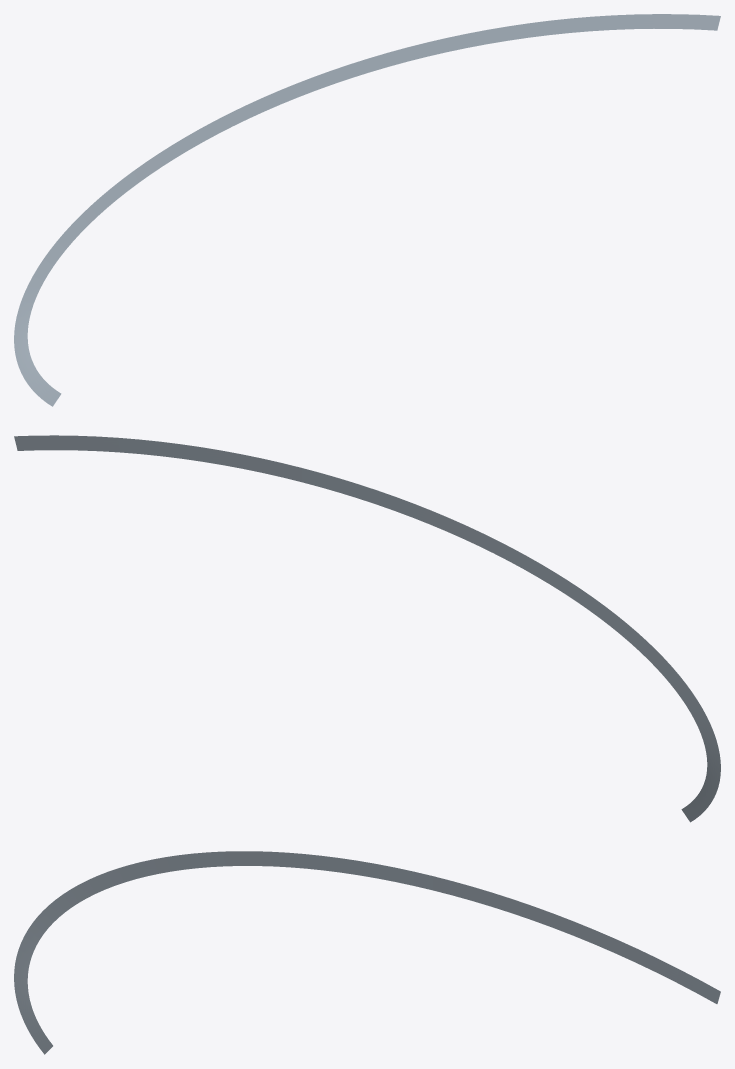
File: Sucrose_LargeWindSpiritPulse_Electro_GatheringWind_35_1.fbx
The picture shows the model from 3 angles, top to bottom: view 1: azimuth 30°, elevation 25°; view 2: azimuth 150°, elevation 25°; view 3: azimuth 330°, elevation 25°; orthographic projection.
Parts seen in each view (by area): view 1: PART_GatheringWind_35_1; view 2: PART_GatheringWind_35_1; view 3: PART_GatheringWind_35_1.
Boxes of the visible parts, bbox=[...] form: PART_GatheringWind_35_1: bbox=[14, 14, 720, 406]; PART_GatheringWind_35_1: bbox=[14, 435, 720, 822]; PART_GatheringWind_35_1: bbox=[14, 851, 720, 1054].
Bounding box in the file's own units: 443 × 160 × 8.73.
